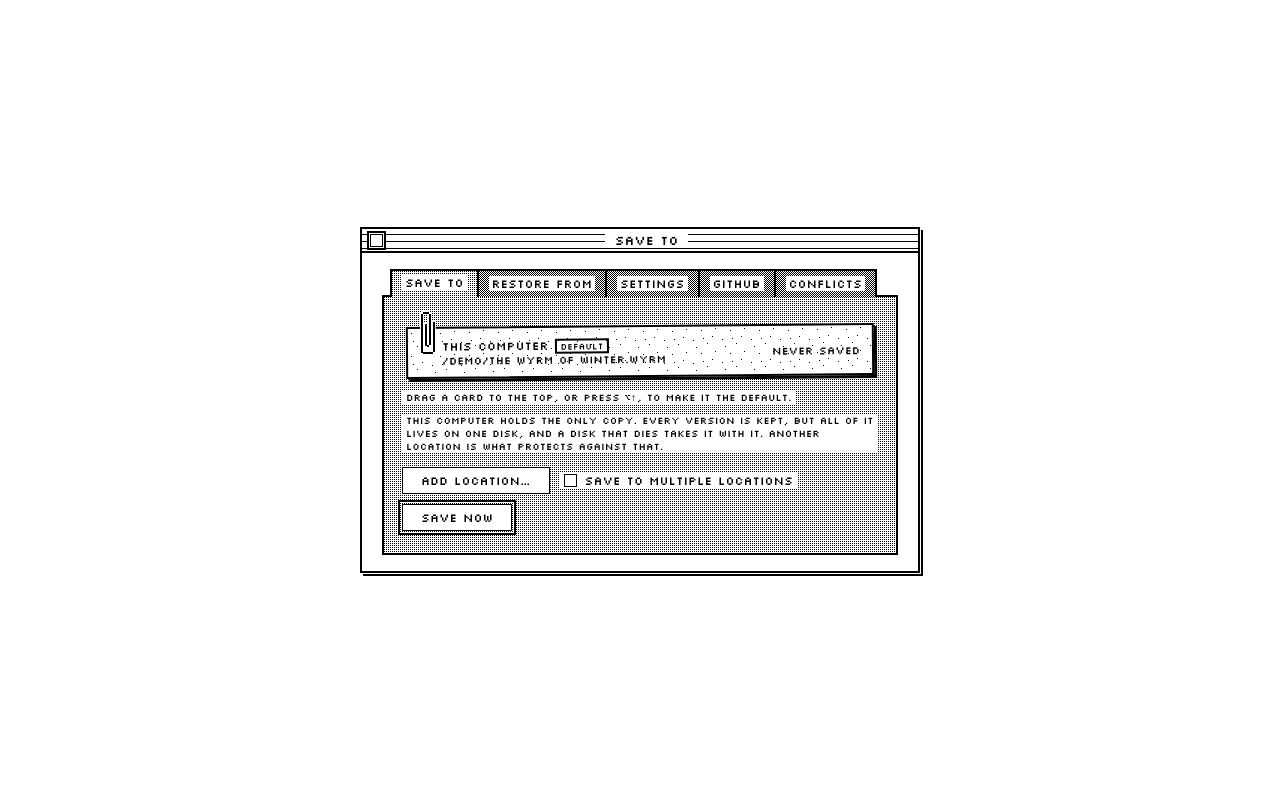
it: keeping only this computer › offers the way to another location rather than naming a menu item
The width and height of the screenshot is (1280, 800).
Expected: the list item is shown, [406,323,874,379]
Click the button "Add Location…": x=476, y=480 [402,467,550,494]
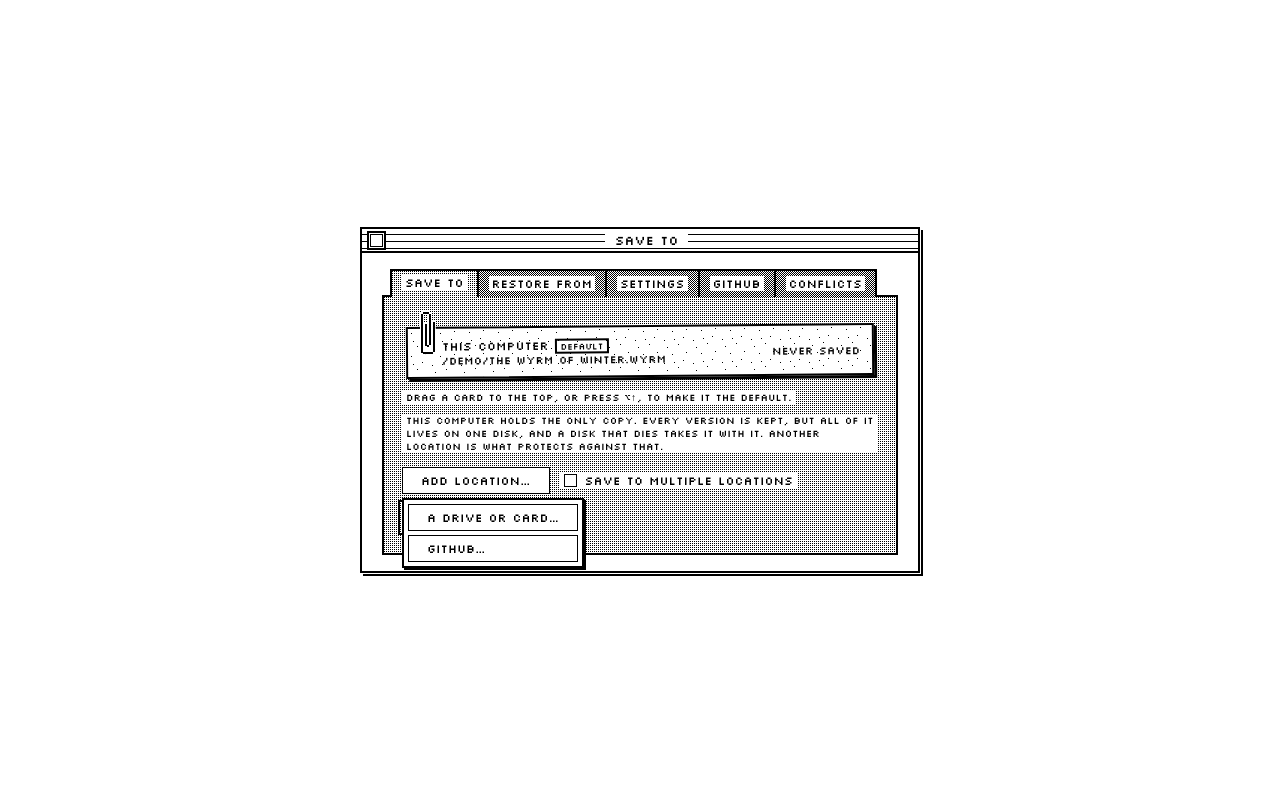
Result: the menu item "A Drive or Card…" is shown at [408,504,578,531]
